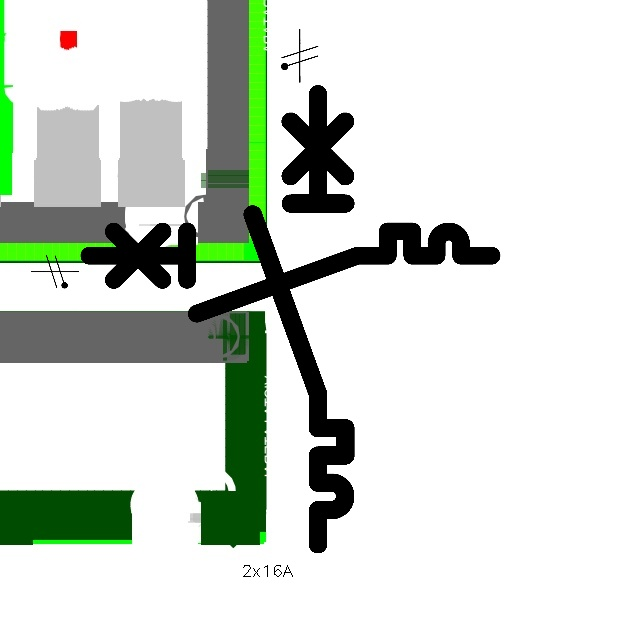interruptor_termomagnetico: (241, 82, 357, 555), (78, 221, 501, 324)
